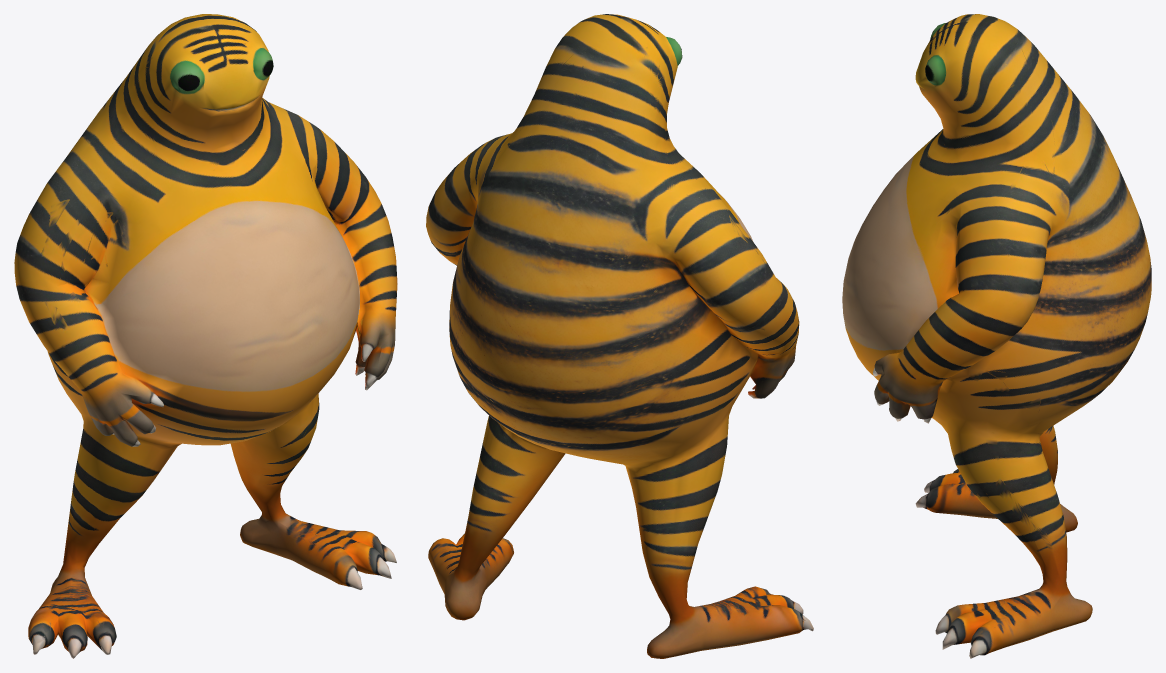
The picture shows the model from 3 angles, left to right: view 1: azimuth 30°, elevation 25°; view 2: azimuth 150°, elevation 25°; view 3: azimuth 270°, elevation 25°; orthographic projection. The views are drawn at different scales.
Visible parts, largest first — view 1: tripo_node_6e02ac08; view 2: tripo_node_6e02ac08; view 3: tripo_node_6e02ac08.
Boxes of the visible parts, x1,y1,x2,y2 form: tripo_node_6e02ac08: (14,14,397,658); tripo_node_6e02ac08: (426,14,813,658); tripo_node_6e02ac08: (842,14,1151,658).
Size of the model in its own units: 0.6665 by 1 by 0.5074.
1 material, 1 textured.
